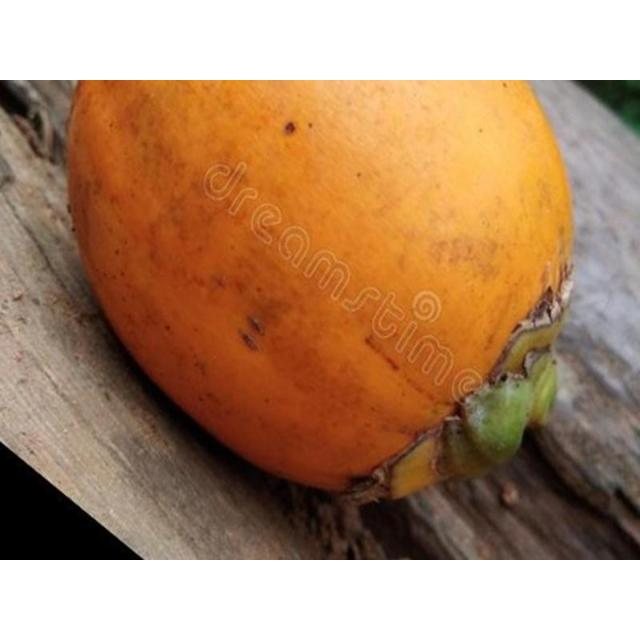good: (66, 80, 598, 502)
